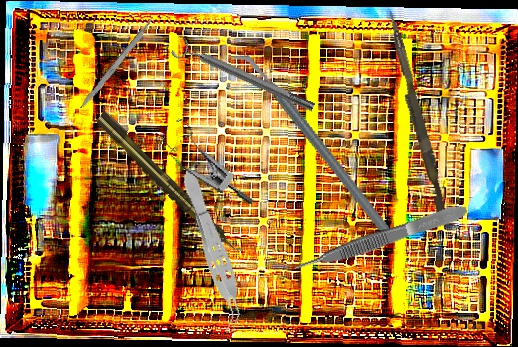Chopper: (230, 26, 397, 266)
Fixation Ring: (169, 33, 319, 120)
Handpiece: (93, 109, 245, 261)
Pusher: (379, 11, 454, 220)
Scalpel Handle: (78, 18, 156, 111)
Speculum: (147, 112, 273, 206)
Tissue Forceps: (173, 165, 253, 337), (290, 201, 470, 276)
